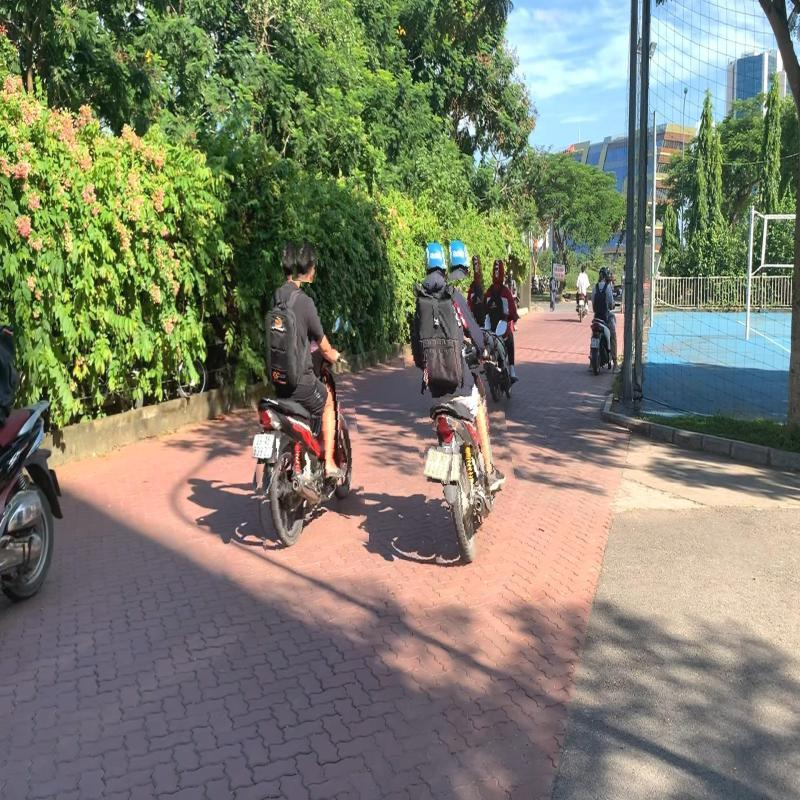helmet: (442, 235, 473, 281)
licenseplate: (422, 447, 453, 484), (251, 432, 277, 464)
motorcyclist: (399, 228, 514, 571), (240, 237, 362, 550)
nohelmet: (293, 242, 319, 282)
